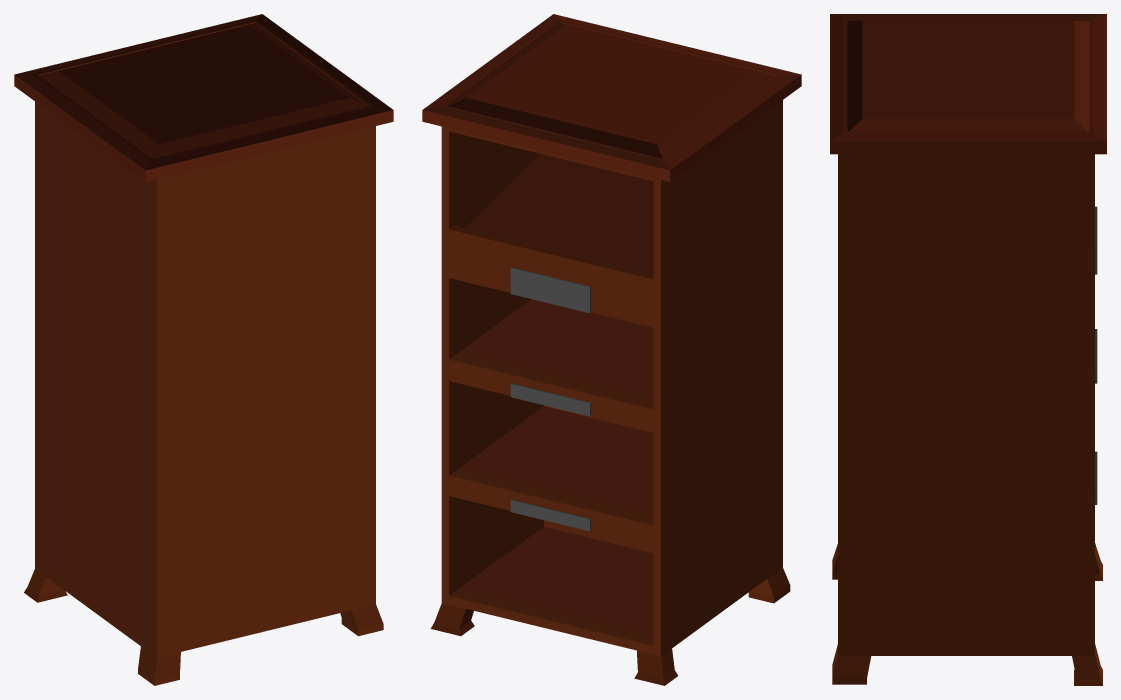
Rendered from Drawer Unit 2.fbx.
3 views of the same model, side by side, from view 1: azimuth 30°, elevation 25°; view 2: azimuth 150°, elevation 25°; view 3: azimuth 270°, elevation 25° (orthographic). The views are drawn at different scales.
Visible parts, largest first — view 1: Node 0; view 2: Node 0; view 3: Node 0.
Part boxes in pixels (left/top/right/bottom): Node 0: left=14, top=14, right=393, bottom=685; Node 0: left=422, top=14, right=801, bottom=685; Node 0: left=830, top=14, right=1106, bottom=685.
Size of the model in its own units: 1.14 by 2.53 by 1.25.
